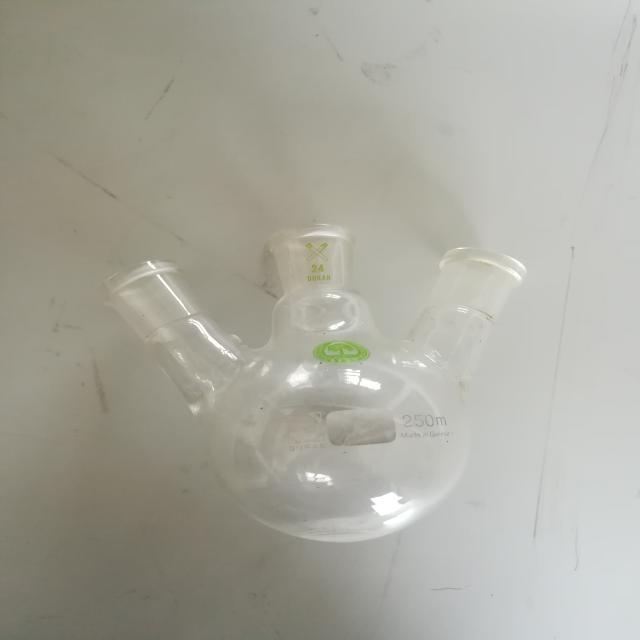Round_Bottom_Flask_Borosilicate_Glass_3_Neck: (78, 196, 572, 566)
